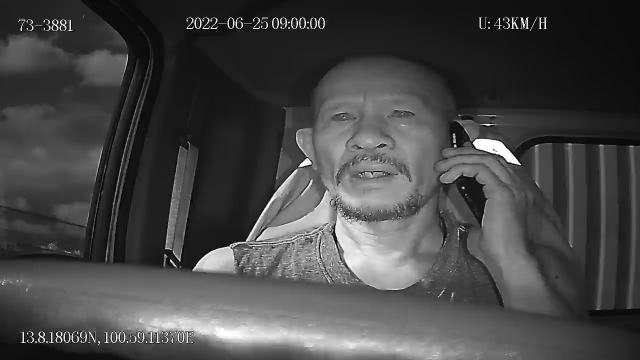PhoneUse: (447, 120, 487, 228)
SafeDriving: (322, 100, 364, 129), (381, 98, 423, 126)
